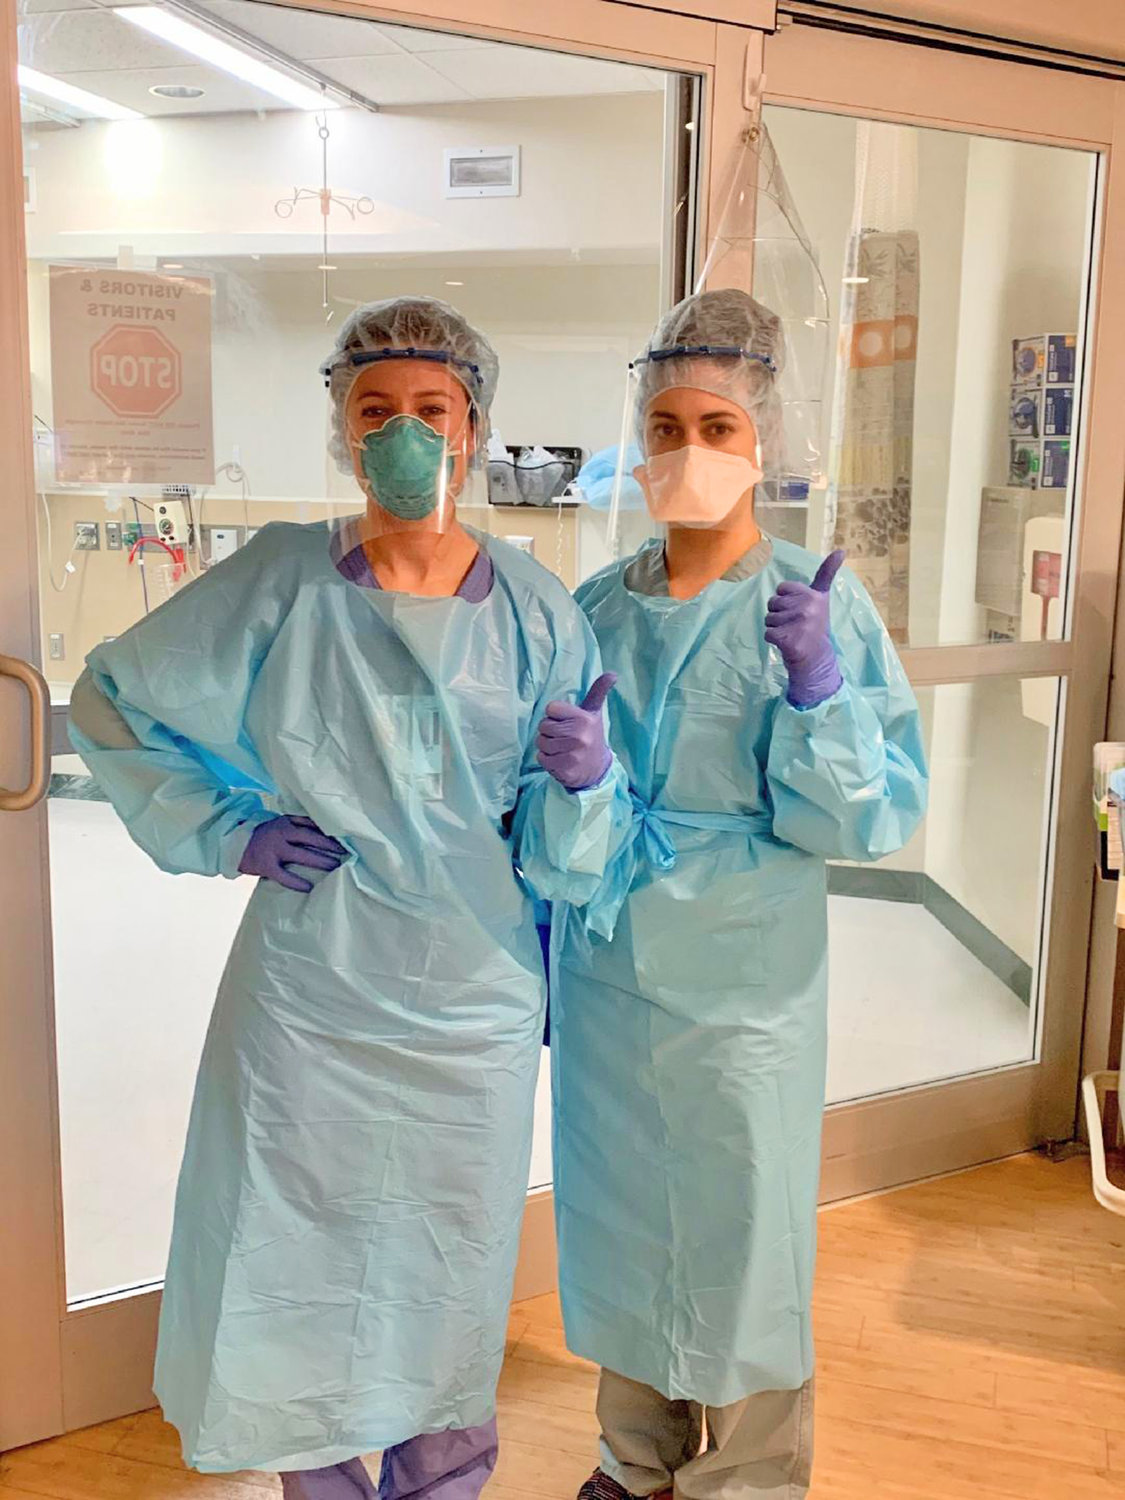Coverall: (79, 293, 601, 1500), (536, 274, 899, 1487)
Gloves: (760, 543, 854, 704), (538, 682, 621, 799), (241, 812, 346, 898)
with_mask: (630, 402, 763, 534), (357, 381, 469, 522)
